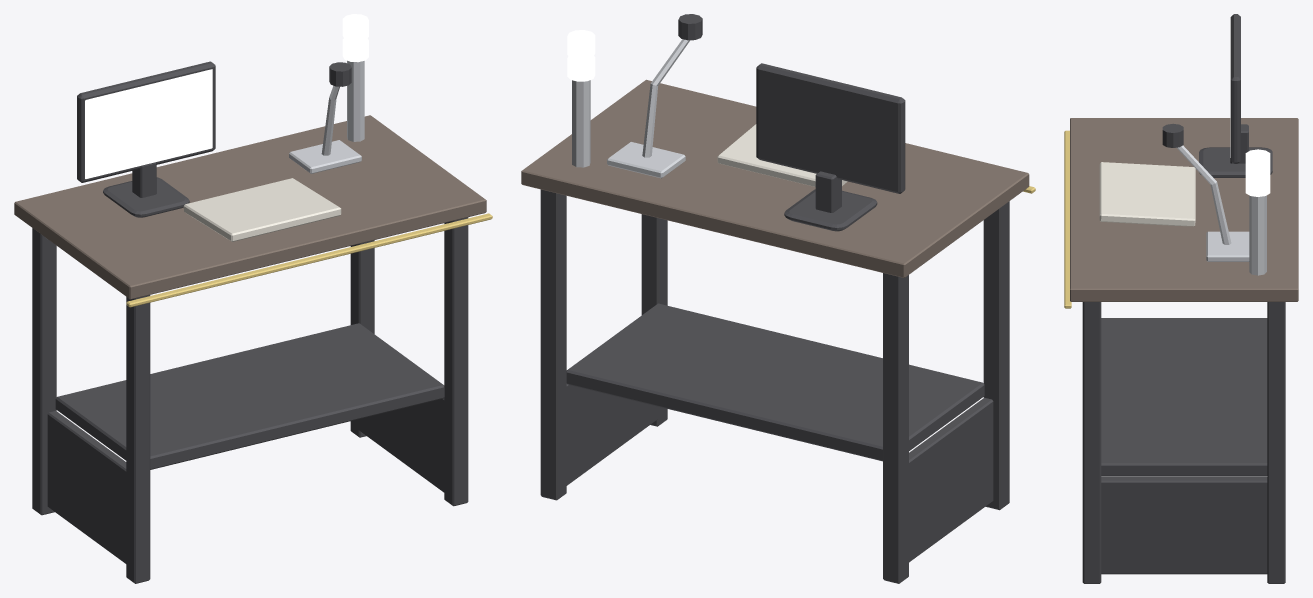
Rendered from theatre-stage-and-backstage-prompt-desk-with-monitor-a-568e24df__35893.glb.
3 views of the same model, side by side, from view 1: azimuth 30°, elevation 25°; view 2: azimuth 150°, elevation 25°; view 3: azimuth 270°, elevation 25° (orthographic). The views are drawn at different scales.
Parts seen in each view (by area): view 1: prompt-desk-with-monitor-and-cue-light; view 2: prompt-desk-with-monitor-and-cue-light; view 3: prompt-desk-with-monitor-and-cue-light.
Part boxes in pixels (<box>): prompt-desk-with-monitor-and-cue-light: <box>14,14,492,583</box>; prompt-desk-with-monitor-and-cue-light: <box>521,14,1035,583</box>; prompt-desk-with-monitor-and-cue-light: <box>1064,14,1298,583</box>.
Size of the model in its own units: 1.12 by 1.26 by 0.635.
